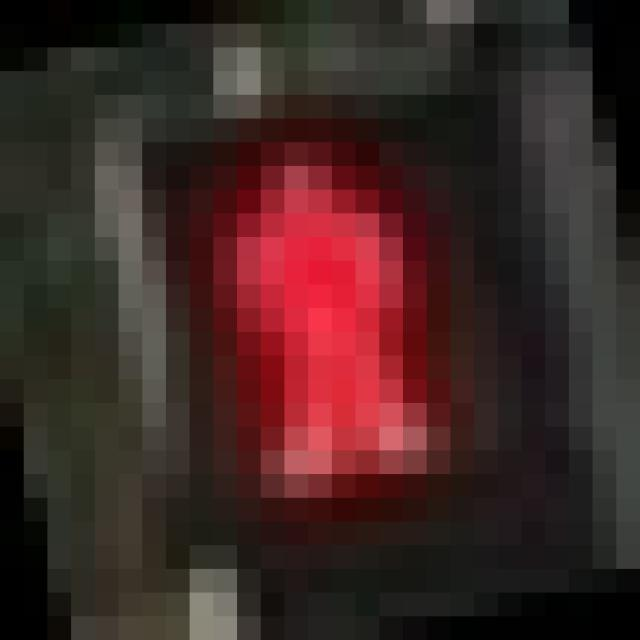red-crossing: (48, 24, 546, 522)
